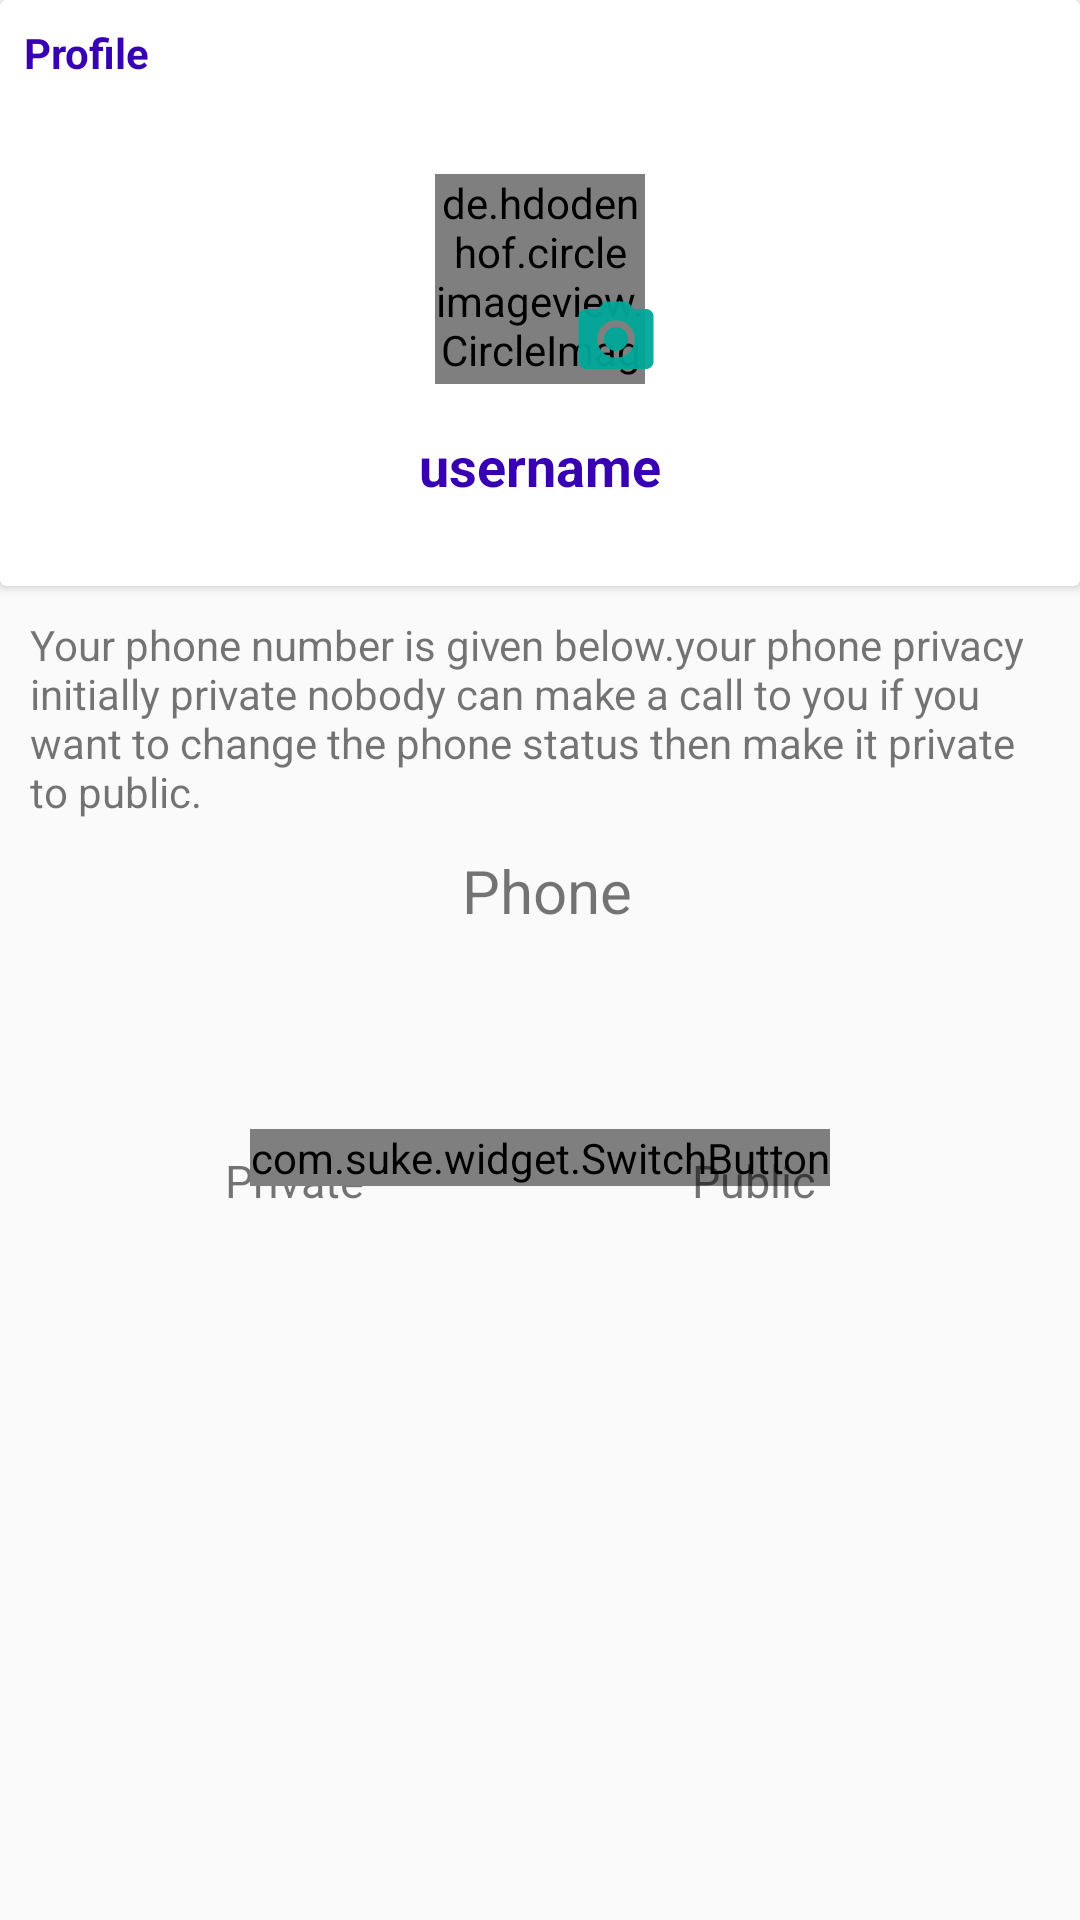

Where to tap for icons on this 1080w x 1920h app screen, as point (x, y):
photo camera: point (616, 339)
